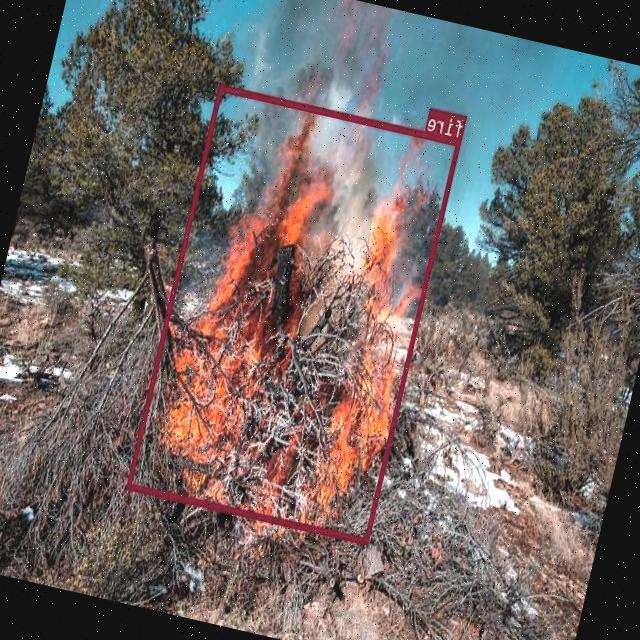fire: (128, 84, 462, 544)
